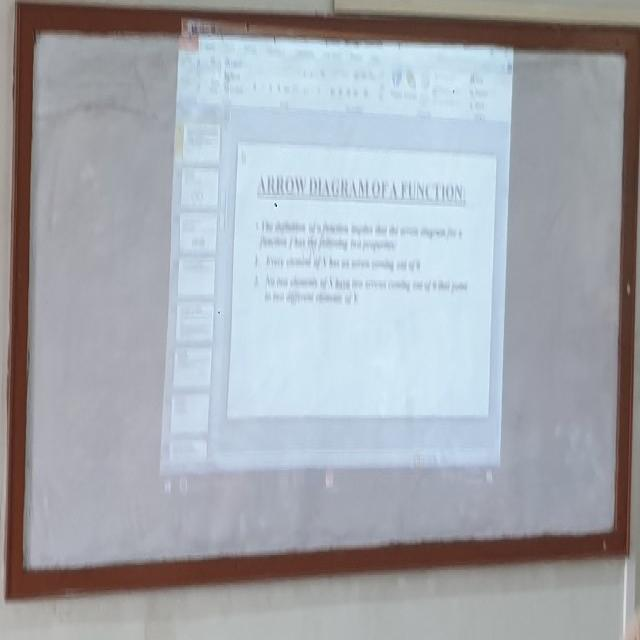Slide: (159, 17, 512, 507)
White-board: (18, 7, 633, 586)
